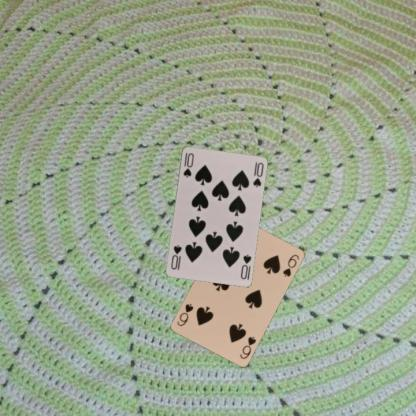10s: (180, 150, 195, 178), (238, 251, 252, 280)
6s: (238, 333, 257, 360)
